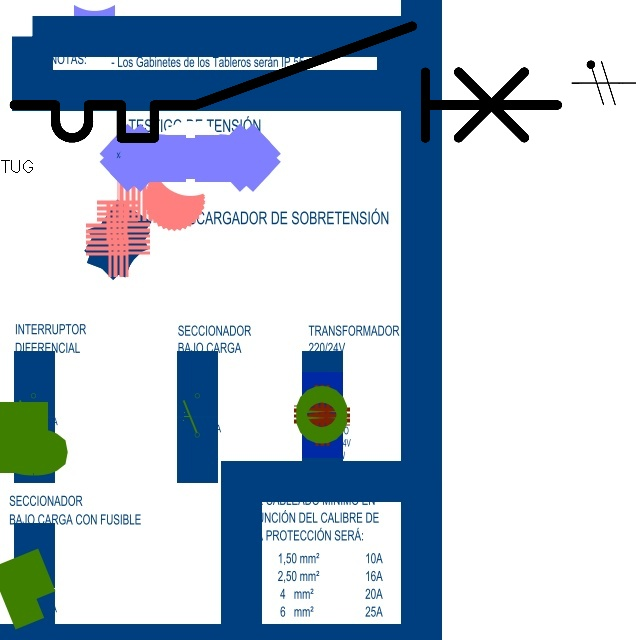interruptor_termomagnetico: (0, 12, 571, 152)
